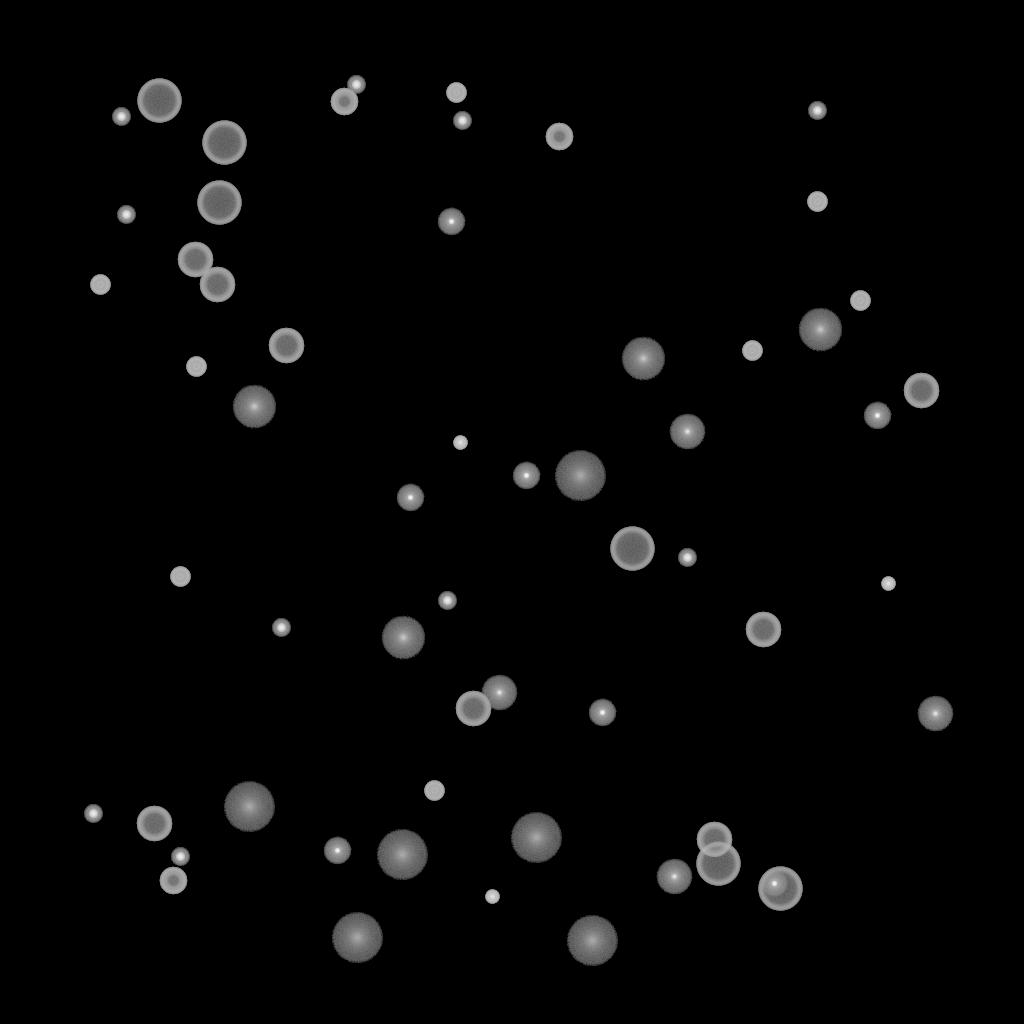depth:-10: (863, 402, 891, 430), (396, 484, 424, 512), (437, 208, 465, 236), (760, 870, 788, 898), (588, 699, 616, 727), (323, 837, 351, 865), (512, 462, 540, 490)
depth:-20: (117, 206, 135, 224), (272, 619, 290, 637), (112, 108, 130, 126), (347, 76, 365, 94), (171, 848, 189, 866), (808, 102, 826, 120), (678, 549, 696, 567), (84, 805, 102, 823), (438, 592, 456, 610), (453, 112, 471, 130)
depth:-30: (881, 577, 895, 591), (453, 436, 467, 450), (485, 890, 499, 904)
depth:-40: (424, 781, 444, 801), (170, 567, 190, 587), (186, 357, 206, 377), (90, 275, 110, 295), (446, 83, 466, 103), (850, 291, 870, 311), (742, 341, 762, 361), (807, 192, 827, 212)
depth:-50: (159, 867, 187, 895), (545, 123, 573, 151), (330, 88, 358, 116)
depth:-60: (903, 373, 939, 409), (199, 267, 235, 303), (455, 691, 491, 727), (177, 242, 213, 278), (268, 328, 304, 364), (696, 822, 732, 858), (745, 612, 781, 648), (136, 806, 172, 842)
depth:-70: (696, 842, 740, 886), (137, 79, 181, 123), (202, 121, 246, 165), (610, 527, 654, 571), (758, 867, 802, 911), (197, 181, 241, 225)
depth:0: (669, 414, 705, 450), (481, 675, 517, 711), (656, 859, 692, 895), (917, 696, 953, 732)
depth:10: (232, 385, 276, 429), (381, 616, 425, 660), (798, 308, 842, 352), (621, 337, 665, 381)
depth:20: (331, 913, 383, 963), (376, 830, 428, 880), (566, 916, 618, 966), (223, 782, 275, 832), (510, 813, 562, 863), (554, 451, 606, 501)
